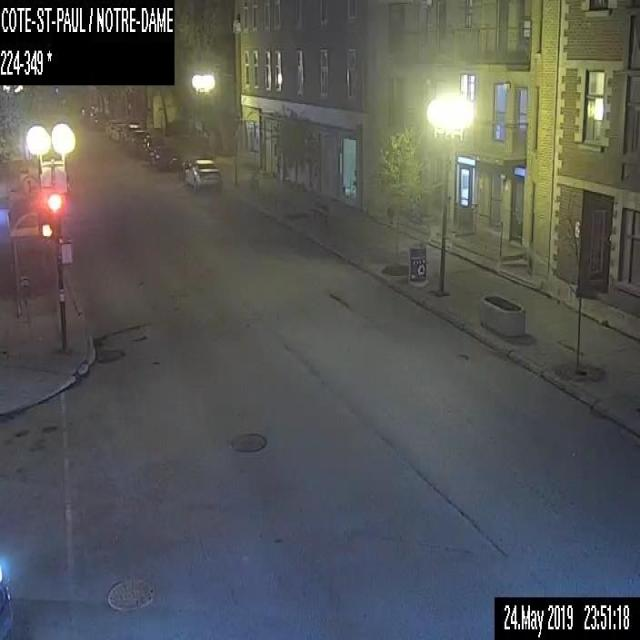vehicle: (184, 158, 219, 190), (0, 564, 13, 639), (146, 145, 178, 170), (139, 134, 161, 157), (120, 124, 140, 145), (130, 130, 145, 148), (178, 159, 192, 178)
